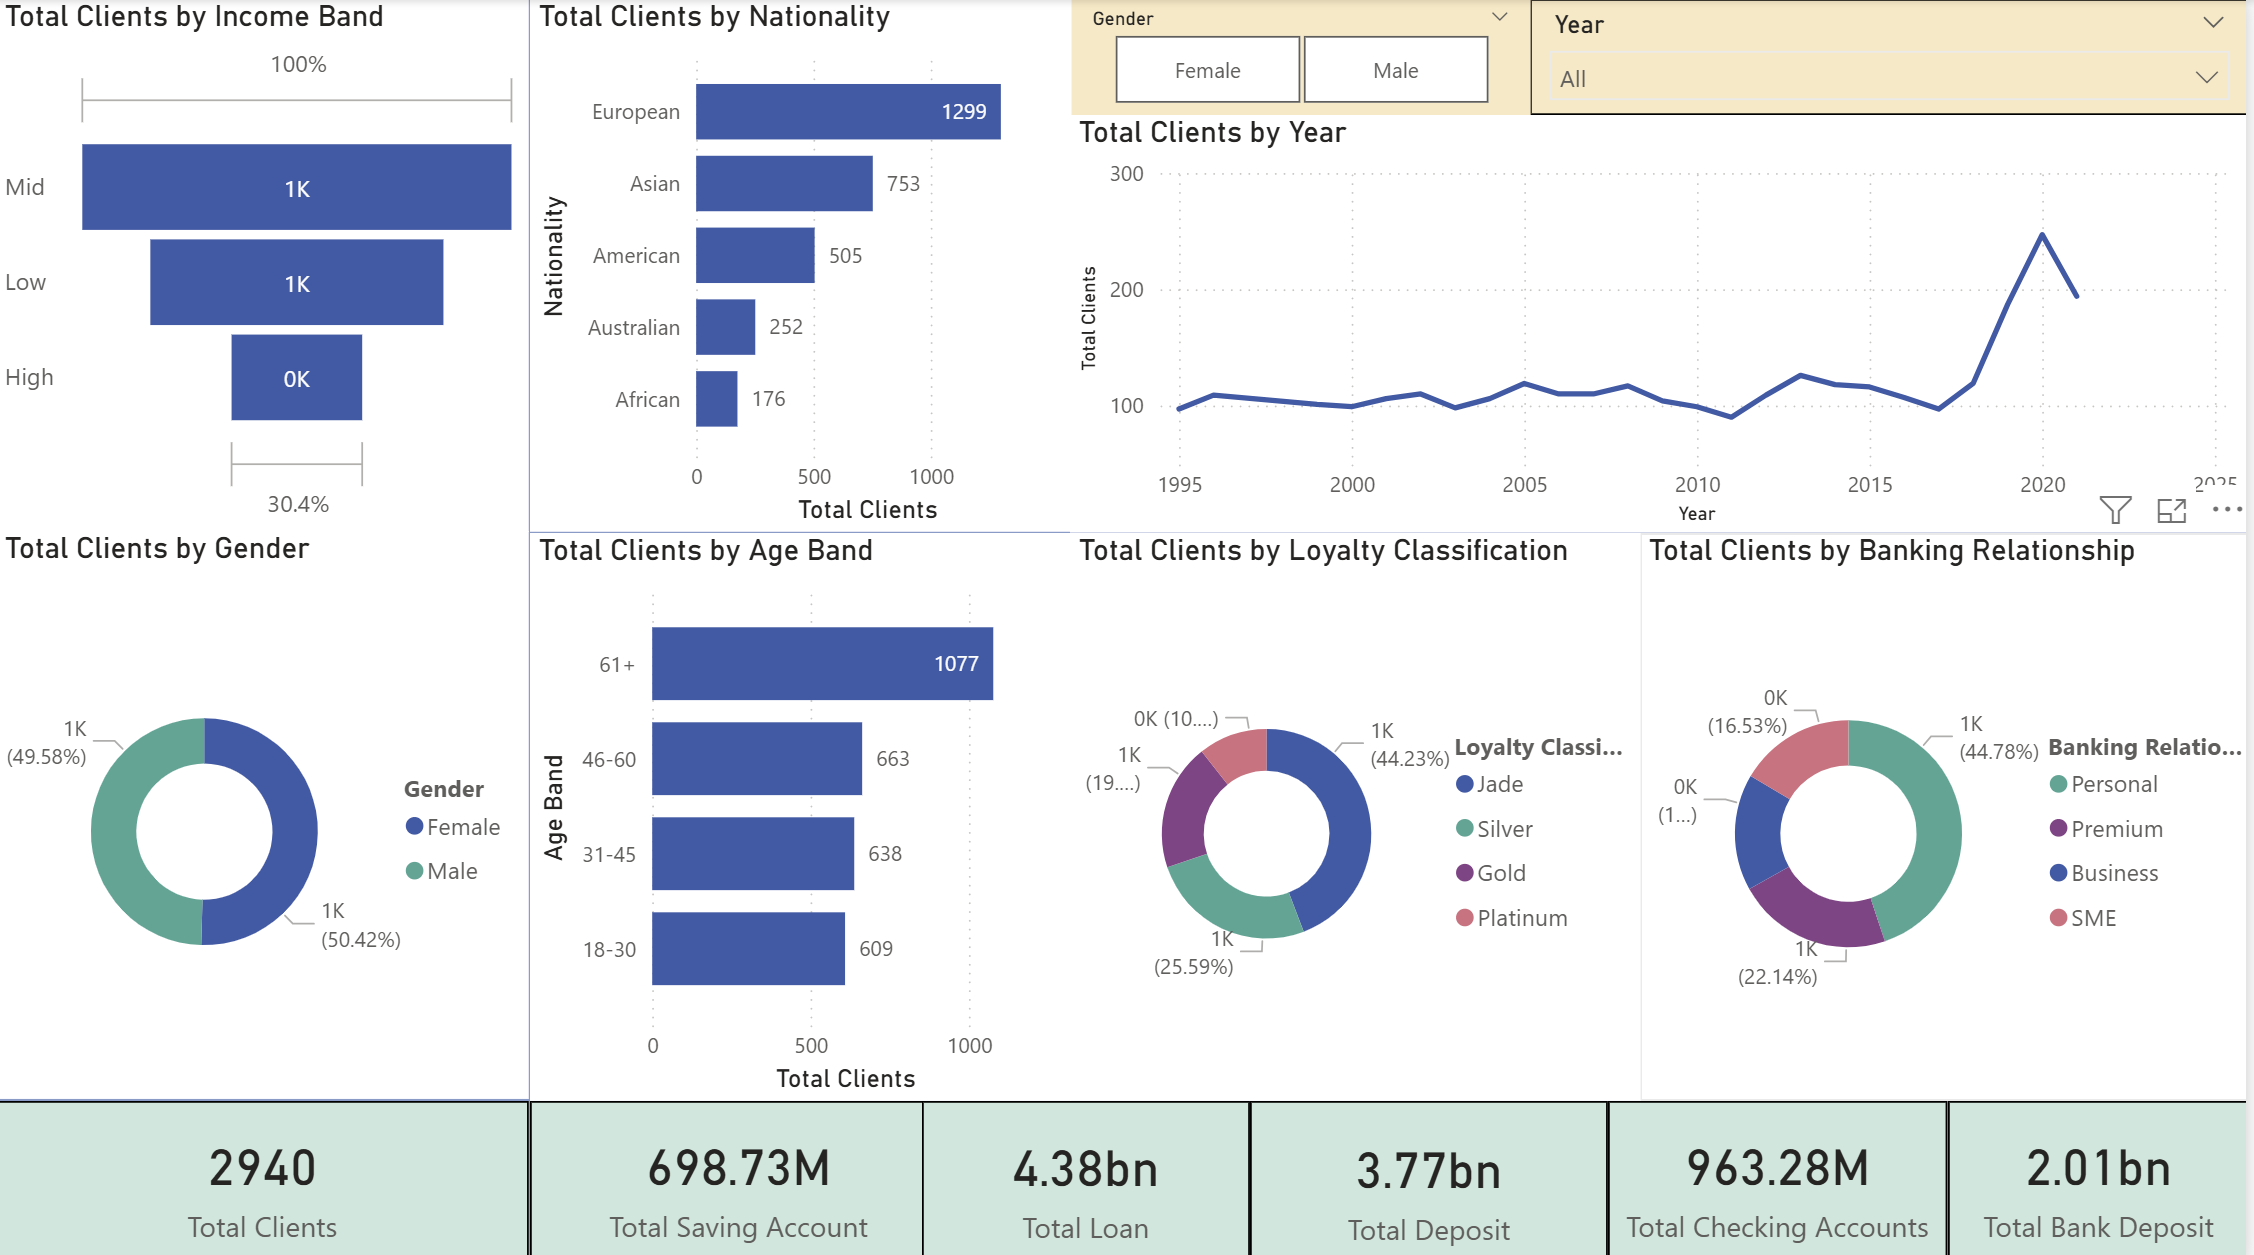

What the dashboard file says about the page in this screenshot:
{"tool":"powerbi","page":{"name":"Home","canvas":[1280,720],"ordinal":0},"visuals":[{"type":"slicer","fields":{"Values":["Banking.Year"]},"box":[872.7,0,408.8,65.8],"z":0},{"type":"slicer","fields":{"Values":["Banking.Gender"]},"box":[610.9,0,261.8,65.8],"z":1000},{"type":"card","fields":{"Values":["Banking.Total Clients"]},"box":[0,626.2,303.2,93.4],"z":2000},{"type":"card","fields":{"Values":["Banking.Total Checking Accounts"]},"box":[917.1,626.2,192.9,93.4],"z":3000},{"type":"card","fields":{"Values":["Banking.Total Deposit"]},"box":[713.5,626.2,203.6,96.5],"z":4000},{"type":"card","fields":{"Values":["Banking.Total Saving Account"]},"box":[303.2,626.2,237.3,93.4],"z":5000},{"type":"card","fields":{"Values":["Banking.Total Bank Deposit"]},"box":[1110,626.2,171.5,93.4],"z":6000},{"type":"card","fields":{"Values":["Banking.Total Loan"]},"box":[526.6,626.5,186.3,94.5],"z":7000},{"type":"lineChart","fields":{"Category":["Banking.Year"],"Y":["Banking.Total Clients"]},"box":[610.9,65.8,669.1,237.3],"z":8000},{"type":"donutChart","fields":{"Category":["Banking.Banking Relationship"],"Y":["Banking.Total Clients"]},"box":[935.5,303.2,349.1,323.1],"z":9000},{"type":"donutChart","fields":{"Category":["Banking.Loyalty Classification"],"Y":["Banking.Total Clients"]},"box":[610.9,303.2,324.6,323.1],"z":10000},{"type":"clusteredBarChart","fields":{"Category":["Banking.Nationality"],"Y":["Banking.Total Clients"]},"box":[303.2,0,307.8,303.2],"z":11000},{"type":"clusteredBarChart","fields":{"Category":["Banking.Age Band"],"Y":["Banking.Total Clients"]},"box":[303.2,303.2,307.8,323.1],"z":12000},{"type":"funnel","fields":{"Category":["Banking.Income Band"],"Y":["Banking.Total Clients"]},"box":[0,0,303.2,303.2],"z":13000},{"type":"donutChart","fields":{"Category":["Banking.Gender"],"Y":["Banking.Total Clients"]},"box":[0,303,303,323],"z":14000}]}

Visuals, with their boxes in screenshot pixels (x1, y1, x2, y2), scaled from the page's 1280x720 canvas onto the 2254x1255 screenshot:
slicer - Banking.Year: 1537, 0, 2253, 115
slicer - Banking.Gender: 1076, 0, 1537, 115
card - Banking.Total Clients: 0, 1092, 534, 1254
card - Banking.Total Checking Accounts: 1615, 1092, 1955, 1254
card - Banking.Total Deposit: 1256, 1092, 1615, 1254
card - Banking.Total Saving Account: 534, 1092, 952, 1254
card - Banking.Total Bank Deposit: 1955, 1092, 2253, 1254
card - Banking.Total Loan: 927, 1092, 1255, 1254
lineChart - Banking.Year x Banking.Total Clients: 1076, 115, 2253, 528
donutChart - Banking.Banking Relationship x Banking.Total Clients: 1647, 528, 2253, 1092
donutChart - Banking.Loyalty Classification x Banking.Total Clients: 1076, 528, 1647, 1092
clusteredBarChart - Banking.Nationality x Banking.Total Clients: 534, 0, 1076, 528
clusteredBarChart - Banking.Age Band x Banking.Total Clients: 534, 528, 1076, 1092
funnel - Banking.Income Band x Banking.Total Clients: 0, 0, 534, 528
donutChart - Banking.Gender x Banking.Total Clients: 0, 528, 534, 1091
